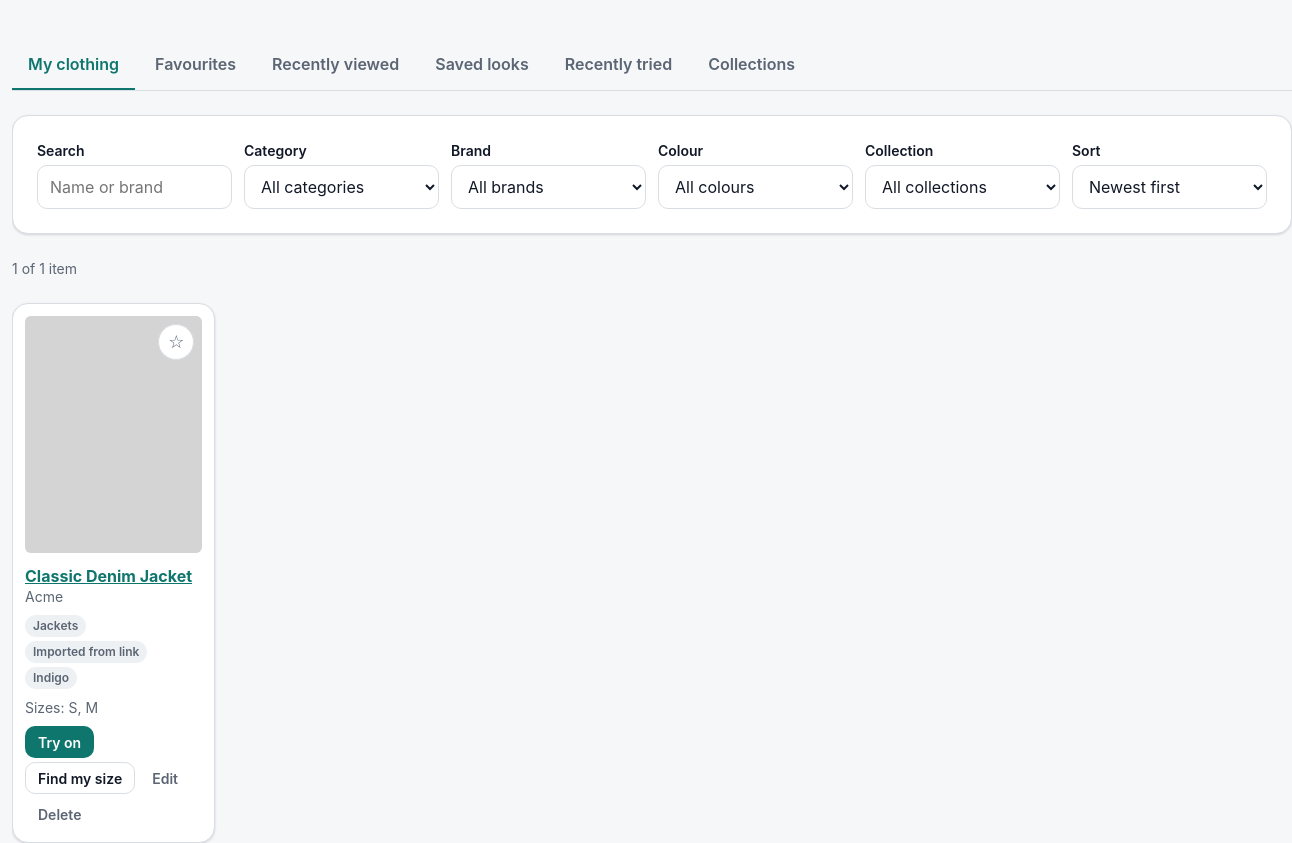
Test: clothing library and product page › lists products in the wardrobe with Try on, and deletes
(page scrolled)
expect the link "Classic Denim Jacket" is shown: met, box [25,566,192,586]
expect the text "Imported from link" is shown: met, box [25,641,147,663]
Click the button "Delete".
click(60, 814)  # box [25,798,94,830]
(page scrolled)
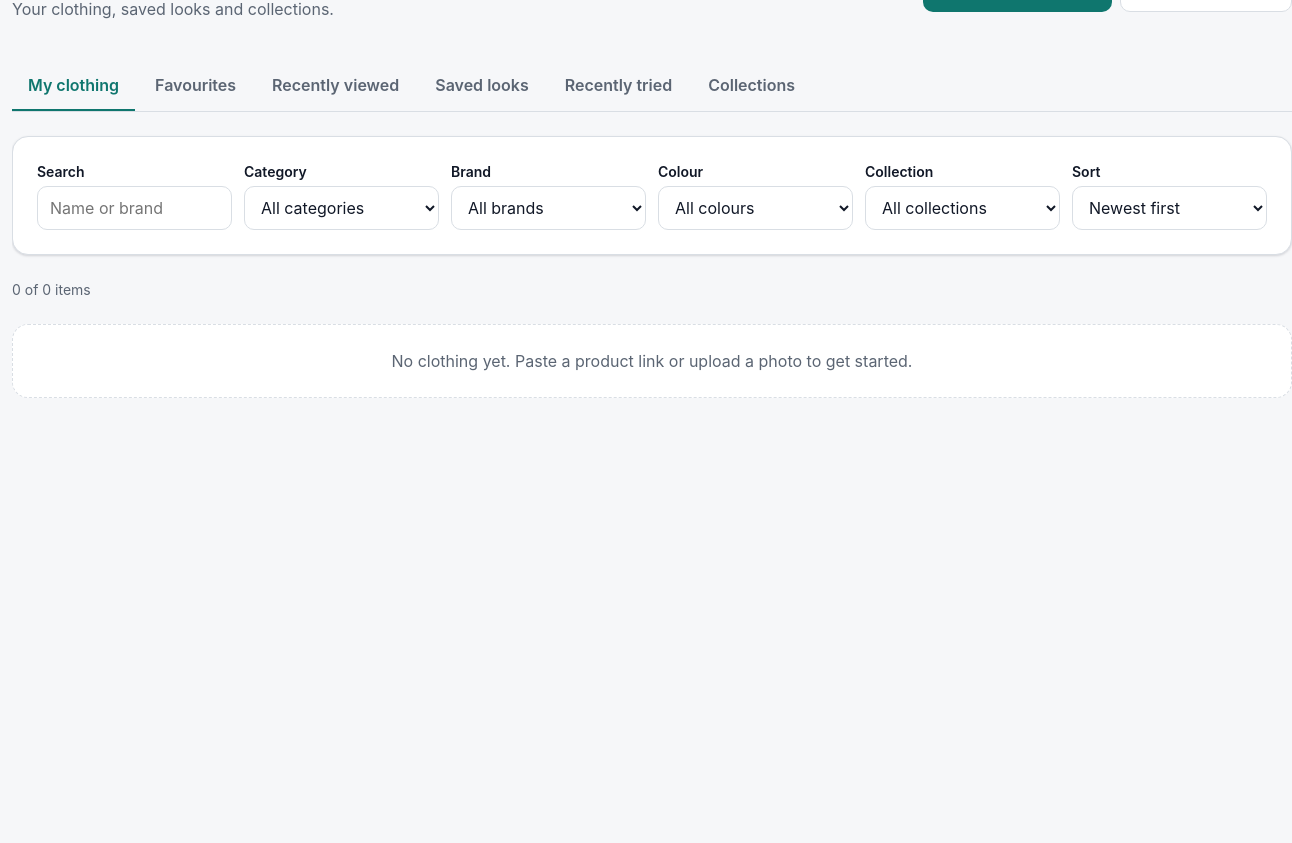
expect the text "No clothing yet" is shown: met, box [392,351,912,371]
